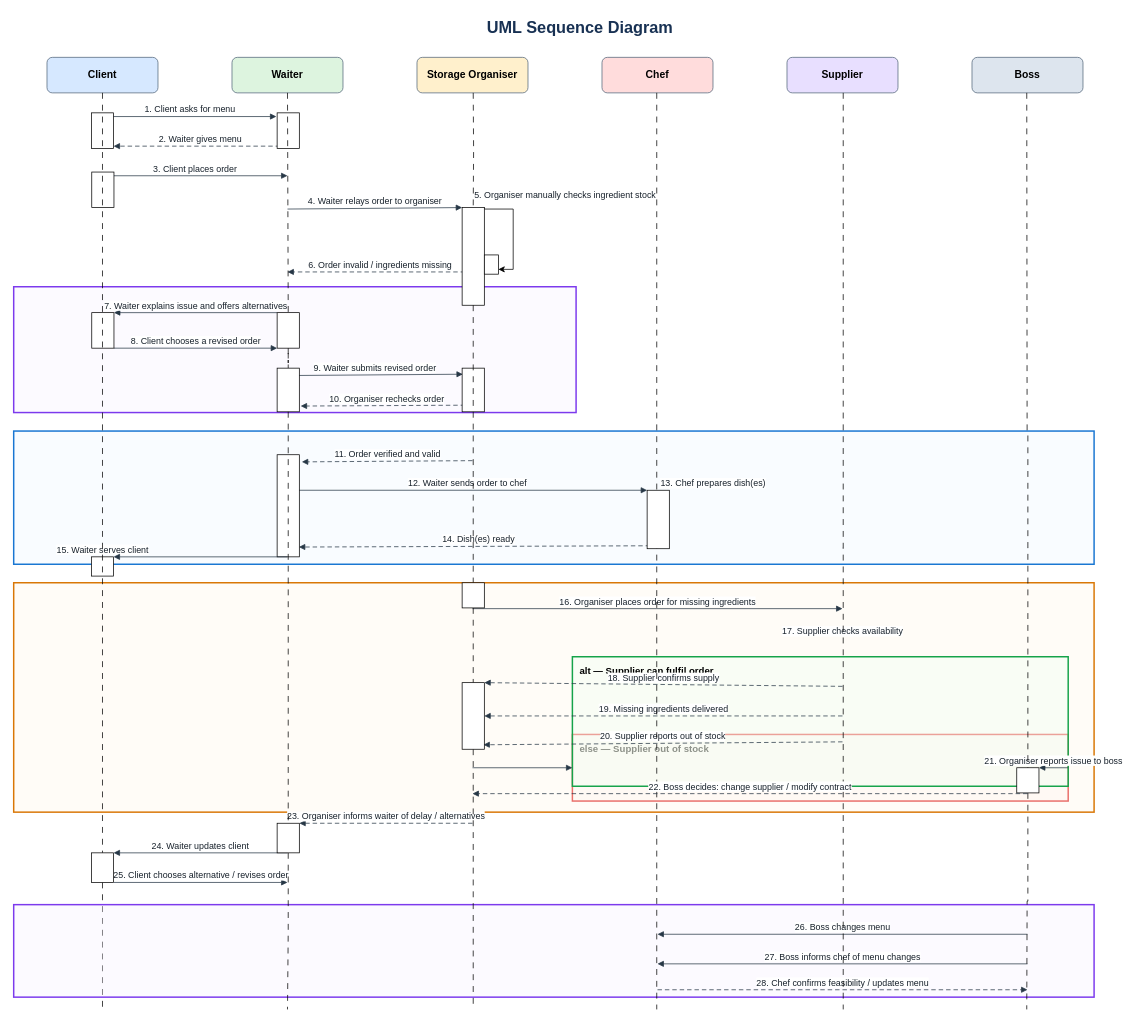
The diagram is 1135 pixels wide and 1023 high, and some of its shapes have lost their labels. The shapes that lost their labels are listed below. From the top down, each one's box as (x1, y1, x2, y2) in pixels, then its label:
(13, 286, 576, 413): loop — Order invalid / unavailable
(13, 430, 1094, 565): alt — Ingredients available
(13, 582, 1094, 813): else — Ingredients not available: replenish stock
(13, 904, 1094, 998): opt — Menu management (when boss changes menu)
